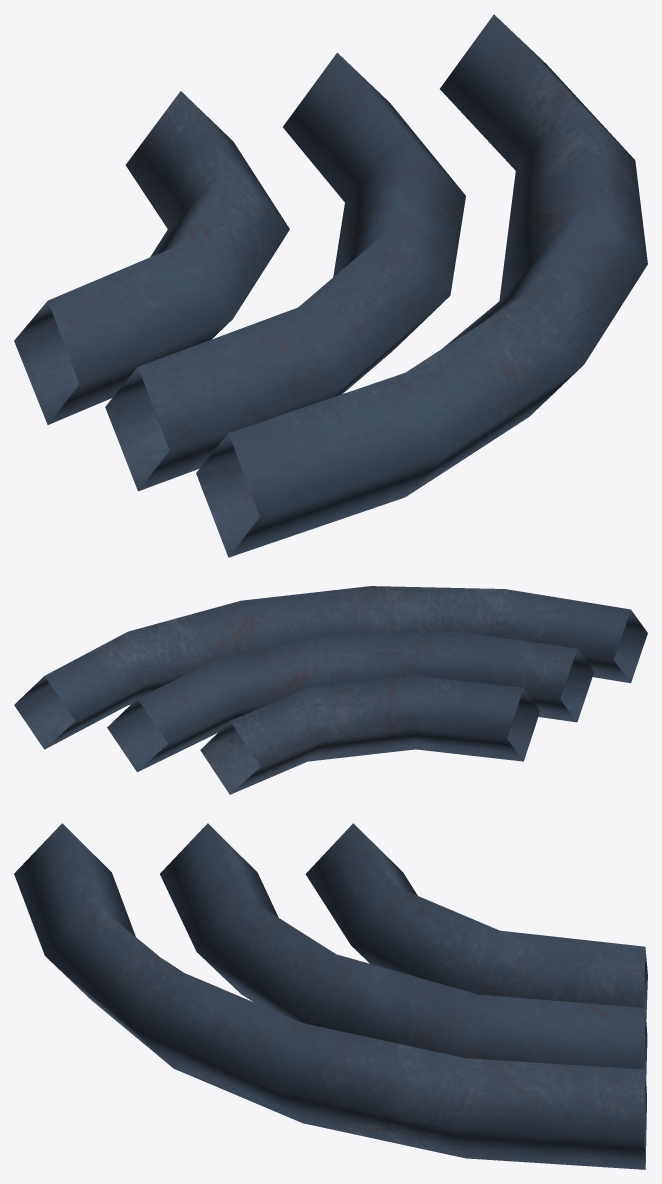
The model's file is Pipe3_Courner1_L2.fbx.
The picture shows the model from 3 angles, top to bottom: view 1: azimuth 30°, elevation 25°; view 2: azimuth 150°, elevation 25°; view 3: azimuth 270°, elevation 25°; orthographic projection. The views are drawn at different scales.
Visible parts, largest first — view 1: PIpe3_Courner1_L2; view 2: PIpe3_Courner1_L2; view 3: PIpe3_Courner1_L2.
Part boxes in pixels (<box>): PIpe3_Courner1_L2: <box>14,14,647,557</box>; PIpe3_Courner1_L2: <box>14,586,647,794</box>; PIpe3_Courner1_L2: <box>14,823,647,1169</box>.
Bounding box in the file's own units: 72.52 × 12.66 × 72.52.
